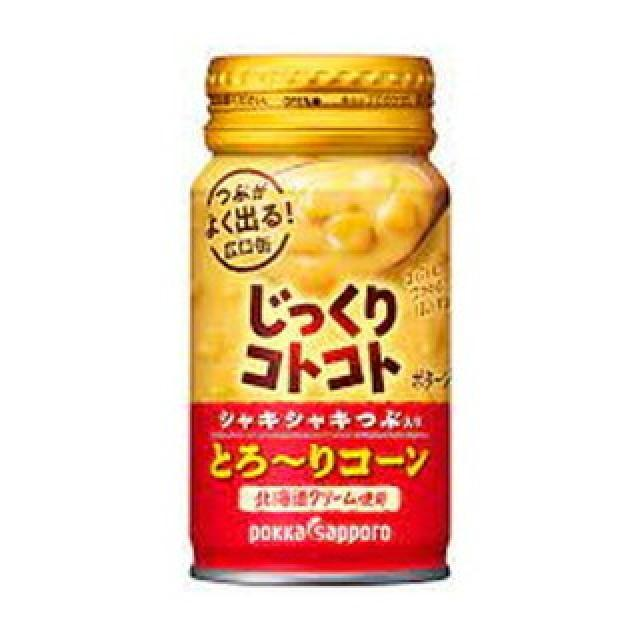recyclable: (187, 52, 456, 594)
